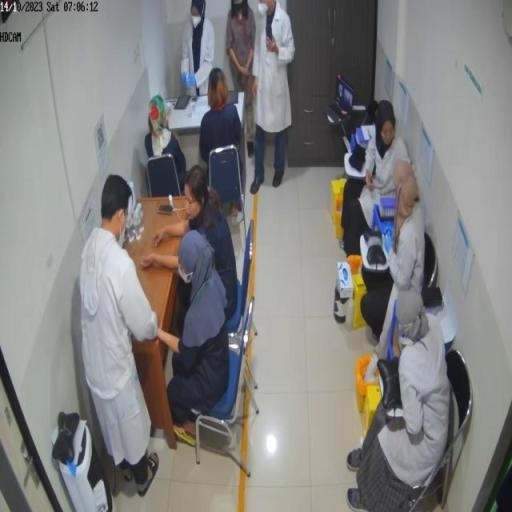person: (79, 175, 161, 502), (349, 291, 452, 504), (141, 225, 232, 437), (144, 166, 240, 329), (360, 168, 427, 349), (343, 101, 413, 258), (249, 1, 296, 195), (200, 68, 244, 180), (227, 1, 257, 152), (145, 95, 187, 195), (181, 2, 216, 97)
